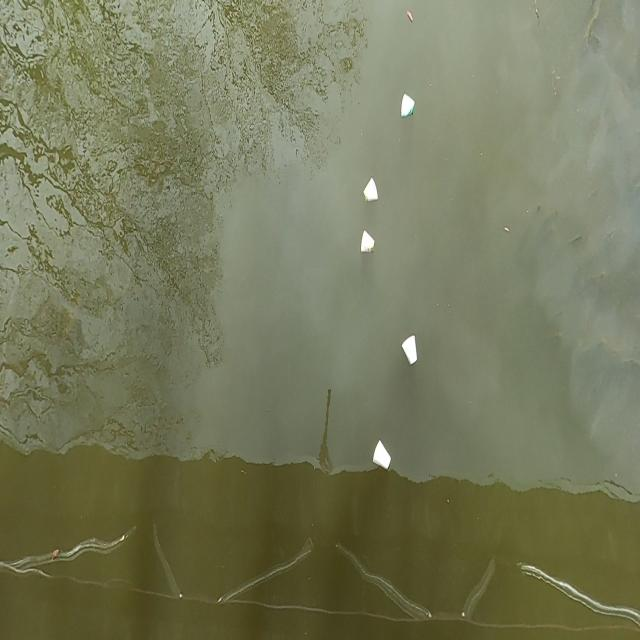Autre plastique: (373, 441, 390, 470), (400, 93, 414, 118), (404, 335, 416, 364), (359, 230, 374, 252), (364, 178, 378, 200)
